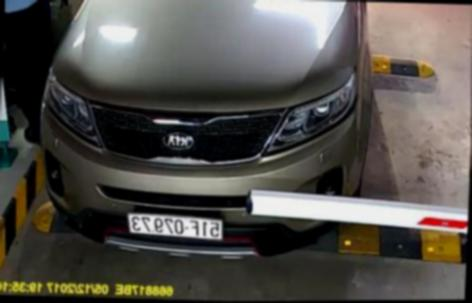License_Plate: (125, 211, 227, 244)
